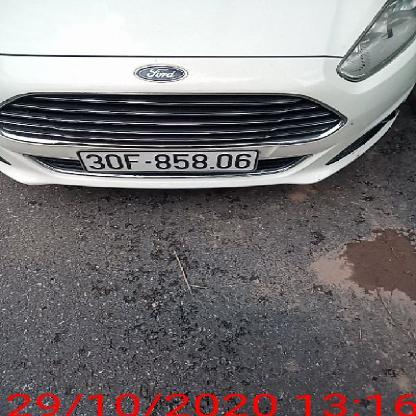biensoxe: (77, 144, 262, 178)
